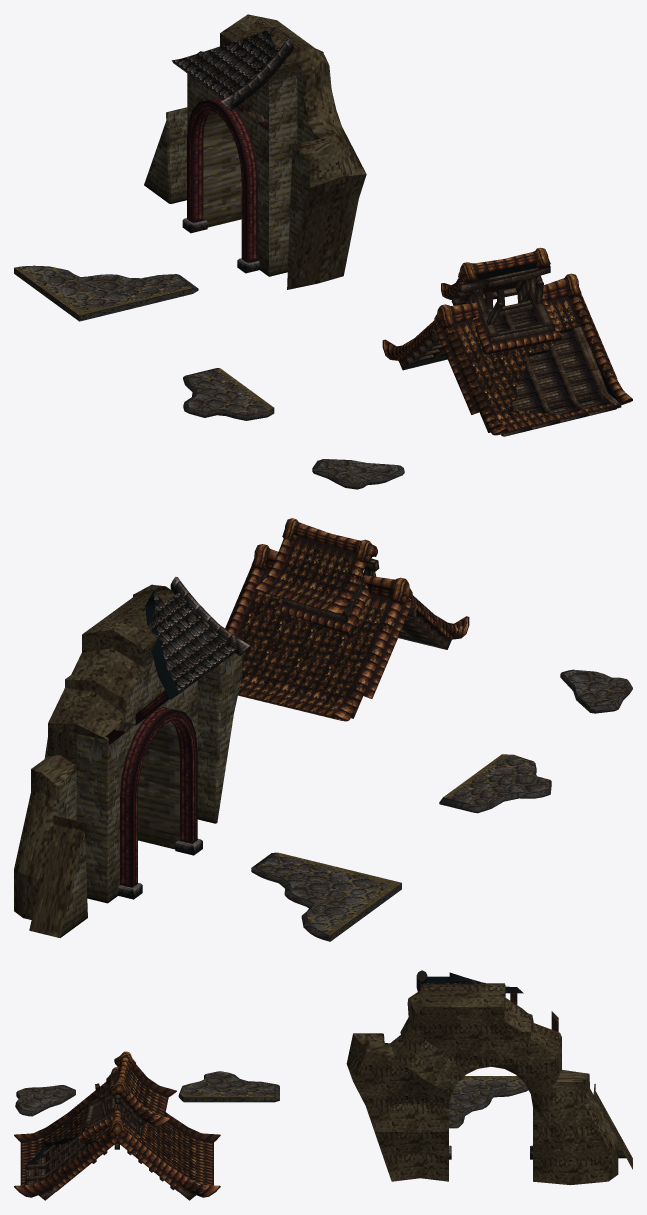
Rendered from EnvMdrMD_Desert_Broken_A_Gate_A.FBX.
3 views of the same model, one above another, from view 1: azimuth 30°, elevation 25°; view 2: azimuth 150°, elevation 25°; view 3: azimuth 270°, elevation 25° (orthographic). The views are drawn at different scales.
Parts seen in each view (by area): view 1: EnvMdrMD_Desert_Broken_A_Gate_A, EnvMdrMD_Desert_Broken_A_Roof_A, EnvMdrMD_Desert_Broken_A_Grd_A, EnvMdrMD_Desert_Broken_A_Grd_C, EnvMdrMD_Desert_Broken_A_Grd_B; view 2: EnvMdrMD_Desert_Broken_A_Gate_A, EnvMdrMD_Desert_Broken_A_Roof_A, EnvMdrMD_Desert_Broken_A_Grd_A, EnvMdrMD_Desert_Broken_A_Grd_C, EnvMdrMD_Desert_Broken_A_Grd_B; view 3: EnvMdrMD_Desert_Broken_A_Gate_A, EnvMdrMD_Desert_Broken_A_Roof_A, EnvMdrMD_Desert_Broken_A_Grd_C, EnvMdrMD_Desert_Broken_A_Grd_A, EnvMdrMD_Desert_Broken_A_Grd_B.
Part boxes in pixels (x1,y1,x2,y2): EnvMdrMD_Desert_Broken_A_Gate_A: [144, 14, 366, 289]; EnvMdrMD_Desert_Broken_A_Roof_A: [382, 247, 632, 436]; EnvMdrMD_Desert_Broken_A_Grd_A: [14, 265, 198, 321]; EnvMdrMD_Desert_Broken_A_Grd_C: [183, 368, 274, 420]; EnvMdrMD_Desert_Broken_A_Grd_B: [312, 459, 404, 489]; EnvMdrMD_Desert_Broken_A_Gate_A: [14, 576, 250, 937]; EnvMdrMD_Desert_Broken_A_Roof_A: [225, 518, 469, 721]; EnvMdrMD_Desert_Broken_A_Grd_A: [251, 852, 401, 941]; EnvMdrMD_Desert_Broken_A_Grd_C: [439, 754, 551, 813]; EnvMdrMD_Desert_Broken_A_Grd_B: [560, 669, 632, 713]; EnvMdrMD_Desert_Broken_A_Gate_A: [346, 970, 632, 1185]; EnvMdrMD_Desert_Broken_A_Roof_A: [14, 1051, 220, 1200]; EnvMdrMD_Desert_Broken_A_Grd_C: [178, 1071, 279, 1102]; EnvMdrMD_Desert_Broken_A_Grd_A: [449, 1076, 528, 1128]; EnvMdrMD_Desert_Broken_A_Grd_B: [15, 1085, 75, 1116].
Bounding box in the file's own units: 1178 × 786 × 2244.
3 materials, 3 textured.
